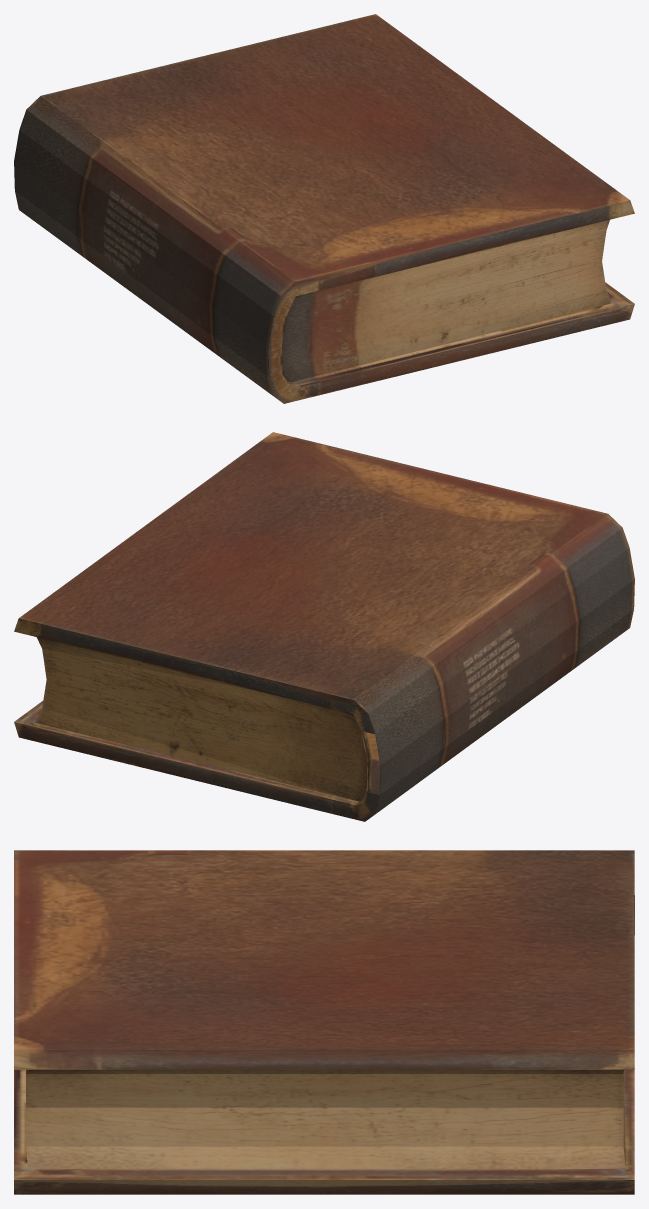
Rendered from Book_02.fbx.
The picture shows the model from 3 angles, top to bottom: view 1: azimuth 30°, elevation 25°; view 2: azimuth 150°, elevation 25°; view 3: azimuth 270°, elevation 25°; orthographic projection. The views are drawn at different scales.
Visible parts, largest first — view 1: Book_02; view 2: Book_02; view 3: Book_02.
Boxes of the visible parts, <box> form: Book_02: <box>14,14,634,403</box>; Book_02: <box>14,432,634,821</box>; Book_02: <box>14,850,634,1194</box>.
Bounding box in the file's own units: 0.3262 × 0.1013 × 0.3926.
